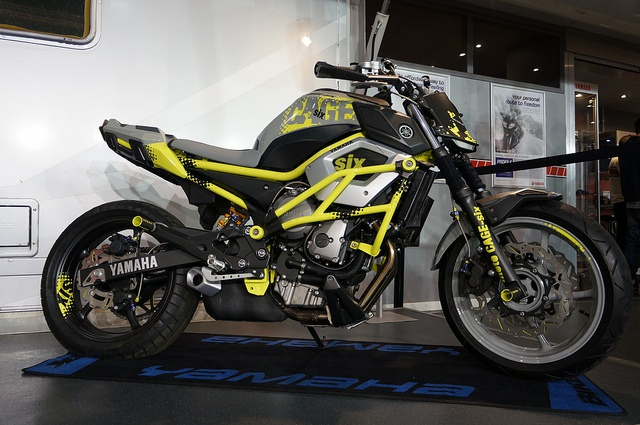non-vehicle: (35, 53, 634, 387), (499, 107, 523, 151)
